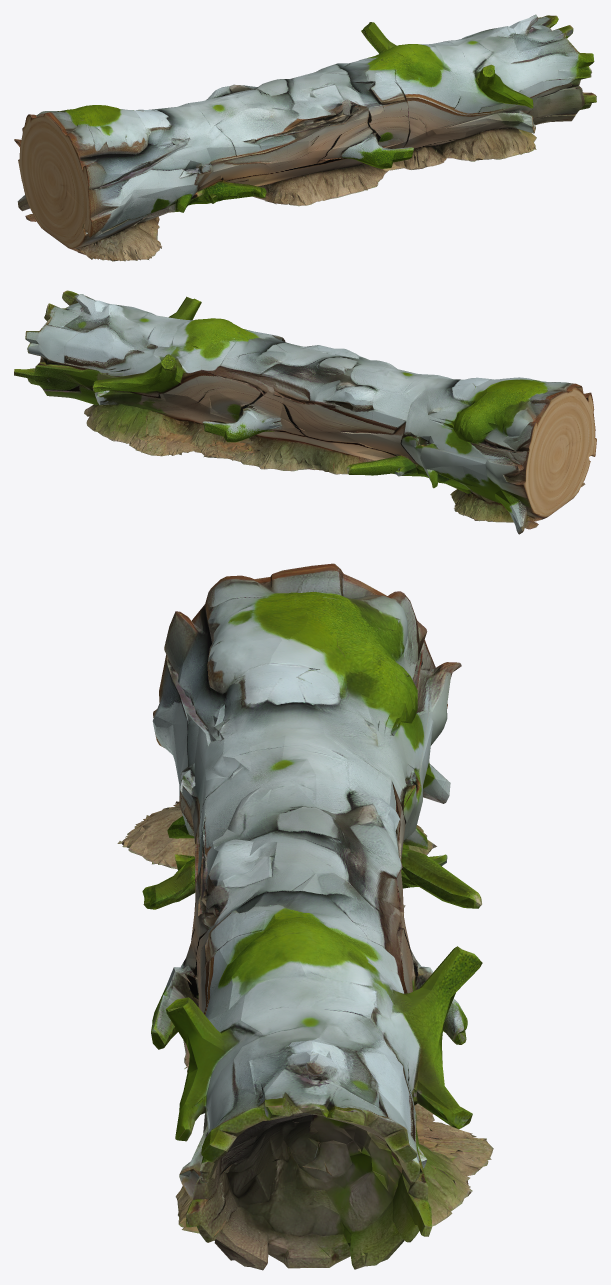
3 renders of one model, top to bottom at view 1: azimuth 30°, elevation 25°; view 2: azimuth 150°, elevation 25°; view 3: azimuth 270°, elevation 25°, orthographic. The views are drawn at different scales.
Bounding box in the file's own units: 1.9 × 0.4127 × 0.5977.
1 material, 1 textured.
